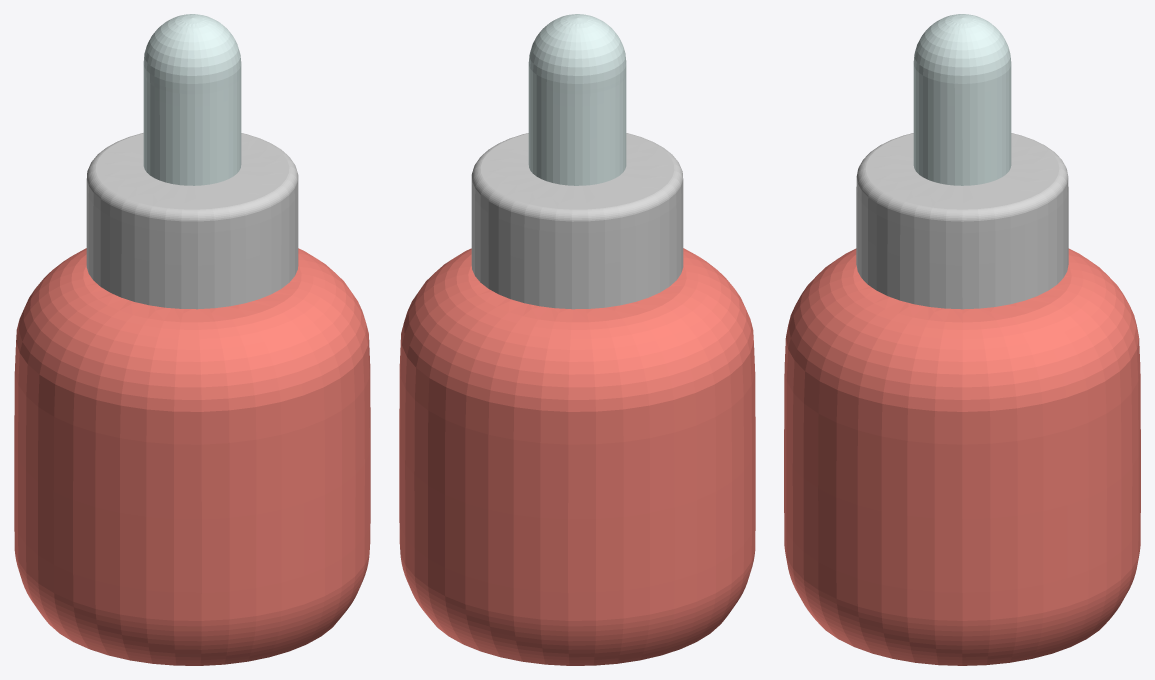
File: bottle2_2.glb
3 views of the same model, side by side, from view 1: azimuth 30°, elevation 25°; view 2: azimuth 150°, elevation 25°; view 3: azimuth 270°, elevation 25° (orthographic).
Bounding box in the file's own units: 0.3655 × 0.66 × 0.3655.
